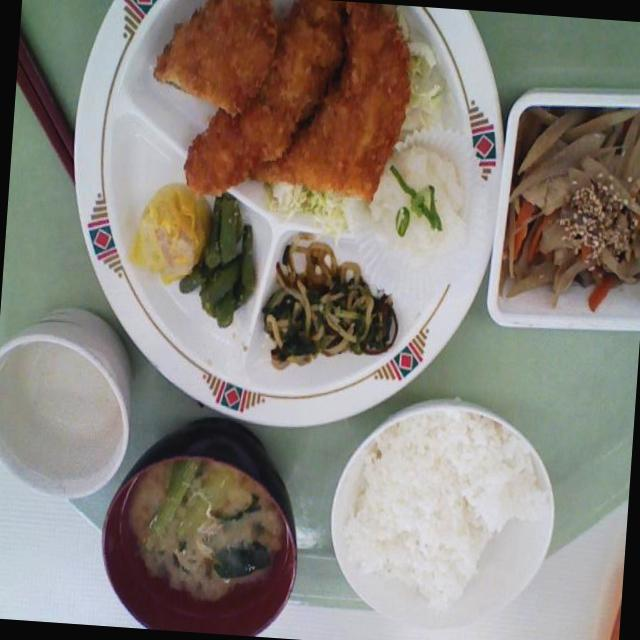Rice: (329, 402, 552, 622)
